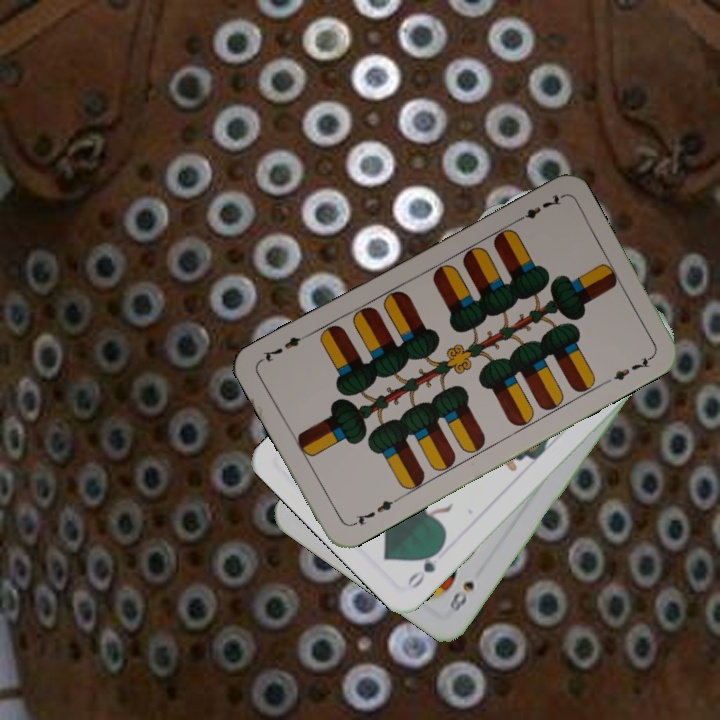E7: (510, 190, 565, 226), (347, 494, 402, 529)
GO: (403, 542, 445, 592)
S8: (445, 576, 477, 618)
